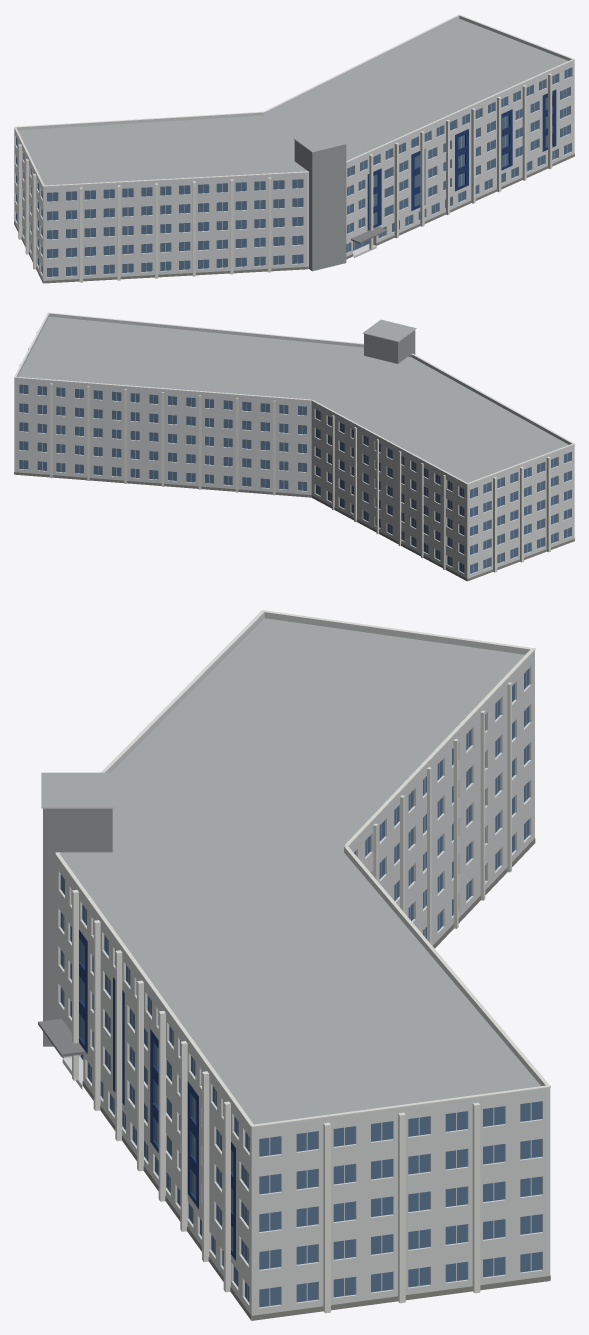
The picture shows the model from 3 angles, top to bottom: view 1: azimuth 30°, elevation 25°; view 2: azimuth 150°, elevation 25°; view 3: azimuth 270°, elevation 25°; orthographic projection. The views are drawn at different scales.
Parts seen in each view (by area): view 1: liberal__roof, liberal__wall, liberal__glass, liberal__trim, liberal__tower, liberal__parapet, liberal__blue, liberal__base, liberal__frame; view 2: liberal__wall, liberal__roof, liberal__glass, liberal__trim, liberal__parapet, liberal__base, liberal__frame, liberal__tower; view 3: liberal__roof, liberal__wall, liberal__trim, liberal__glass, liberal__parapet, liberal__tower, liberal__blue, liberal__base, liberal__frame, liberal__canopy.
Part boxes in pixels (left/top/right/bottom): liberal__roof: left=18, top=18, right=567, bottom=185; liberal__wall: left=14, top=62, right=574, bottom=282; liberal__glass: left=16, top=68, right=571, bottom=276; liberal__trim: left=14, top=14, right=574, bottom=282; liberal__tower: left=294, top=140, right=346, bottom=271; liberal__parapet: left=14, top=15, right=574, bottom=189; liberal__blue: left=367, top=89, right=556, bottom=230; liberal__base: left=14, top=154, right=574, bottom=283; liberal__frame: left=31, top=69, right=567, bottom=276; liberal__wall: left=14, top=380, right=574, bottom=578; liberal__roof: left=18, top=316, right=568, bottom=482; liberal__glass: left=19, top=384, right=571, bottom=573; liberal__trim: left=14, top=312, right=574, bottom=572; liberal__parapet: left=14, top=313, right=574, bottom=486; liberal__base: left=14, top=472, right=574, bottom=581; liberal__frame: left=23, top=385, right=567, bottom=572; liberal__tower: left=364, top=330, right=415, bottom=363; liberal__roof: left=41, top=618, right=540, bottom=1320; liberal__wall: left=56, top=655, right=550, bottom=1320; liberal__trim: left=41, top=610, right=550, bottom=1313; liberal__glass: left=60, top=668, right=542, bottom=1307; liberal__parapet: left=56, top=612, right=550, bottom=1132; liberal__tower: left=43, top=808, right=112, bottom=1046; liberal__blue: left=79, top=930, right=235, bottom=1260; liberal__base: left=62, top=838, right=550, bottom=1320; liberal__frame: left=63, top=671, right=531, bottom=1306; liberal__canopy: left=38, top=1019, right=84, bottom=1056.
Size of the model in its own units: 109 by 24 by 45.69.
